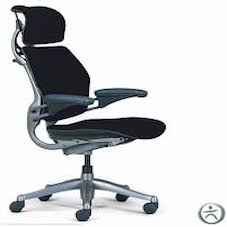chair: (1, 2, 168, 226)
